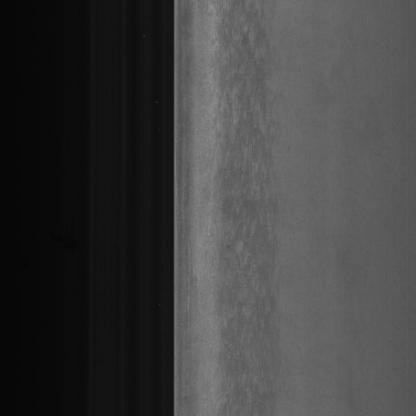silk_spot: (215, 17, 286, 383)
